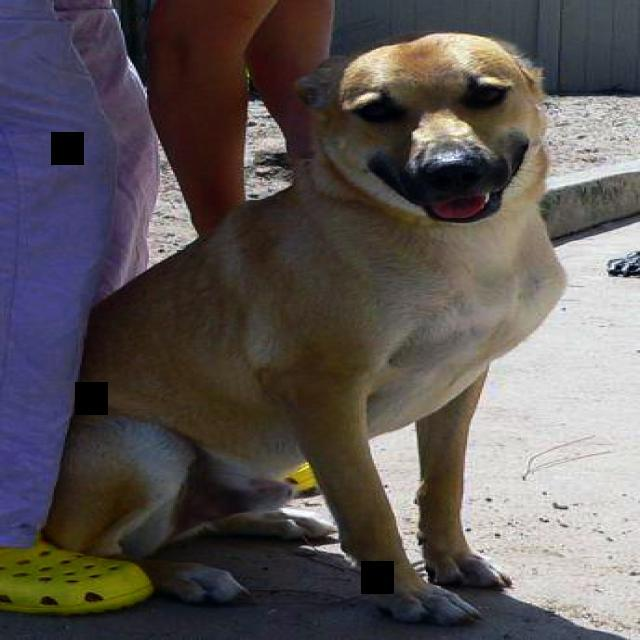adult_dog: (49, 27, 567, 624)
